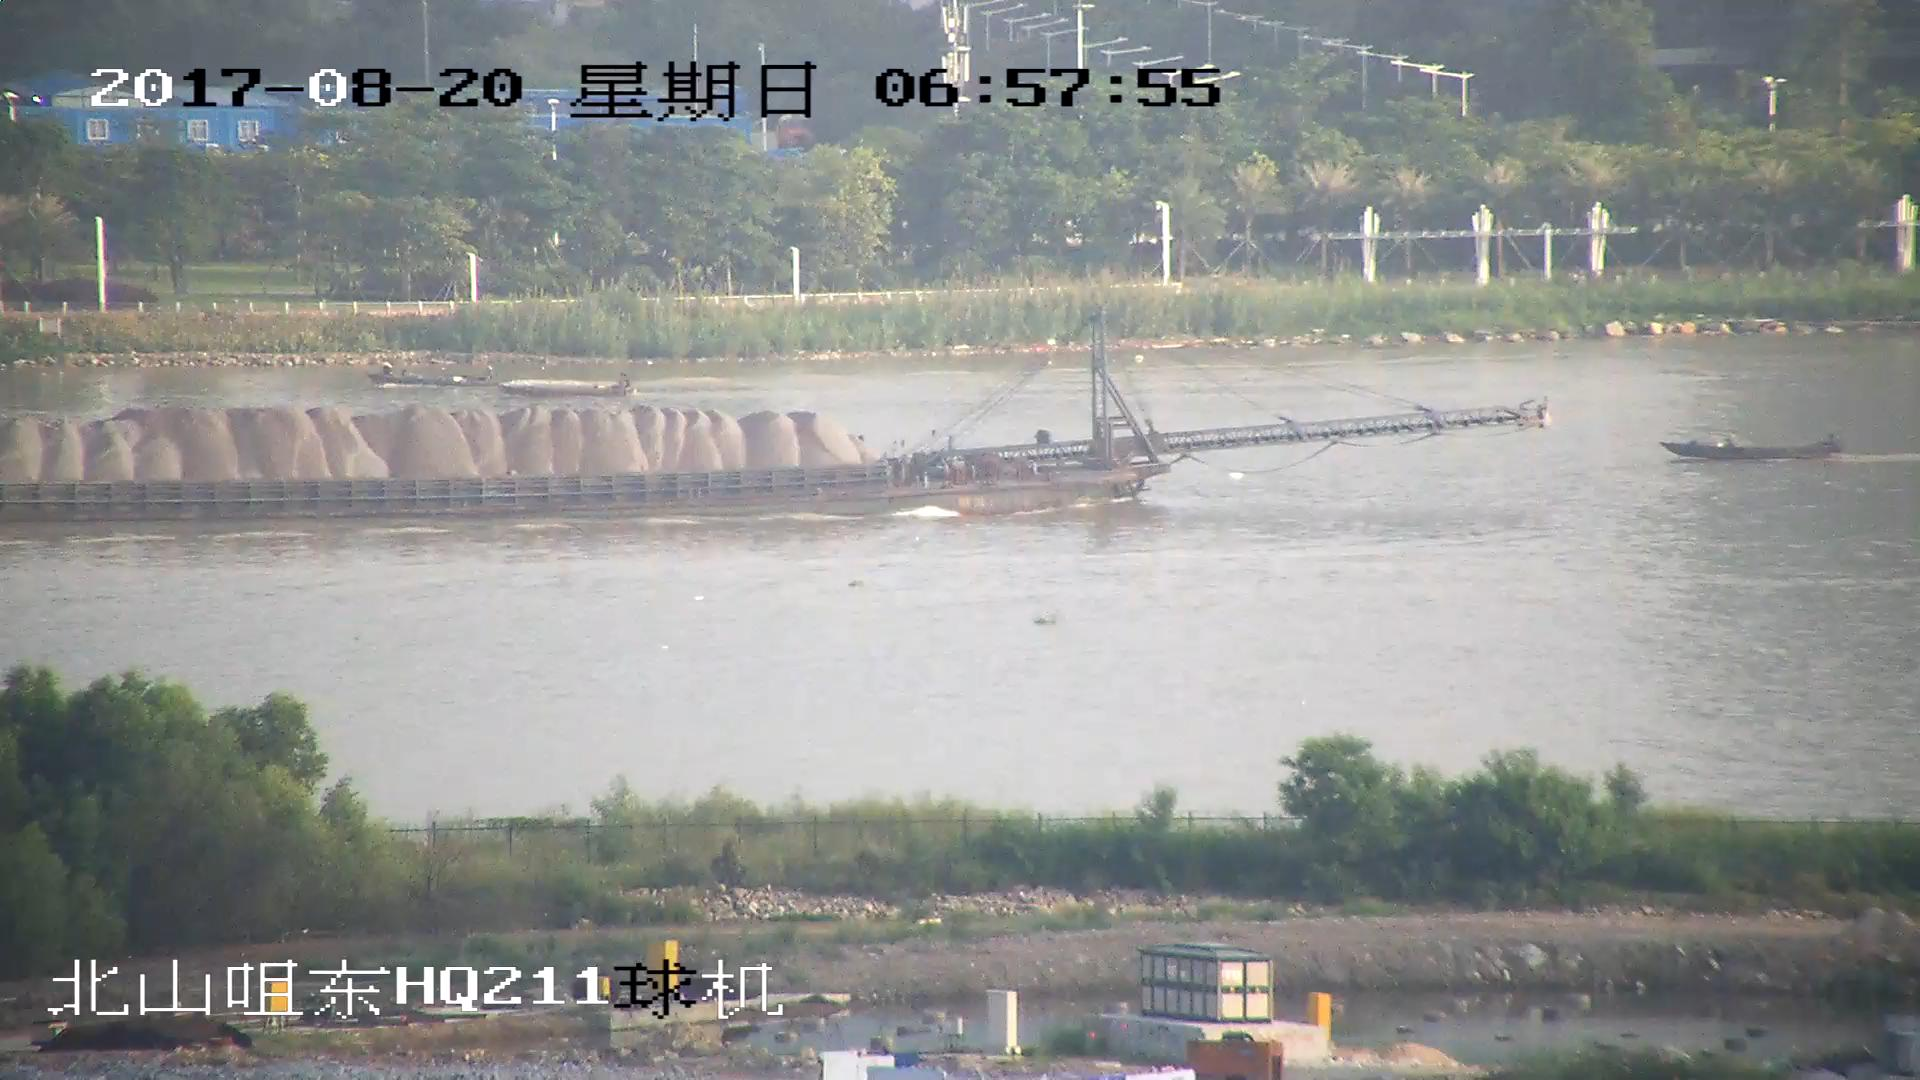fishing boat: (1662, 427, 1846, 462), (502, 369, 641, 399), (369, 360, 499, 389)
ore carrier: (1, 306, 1556, 525)
